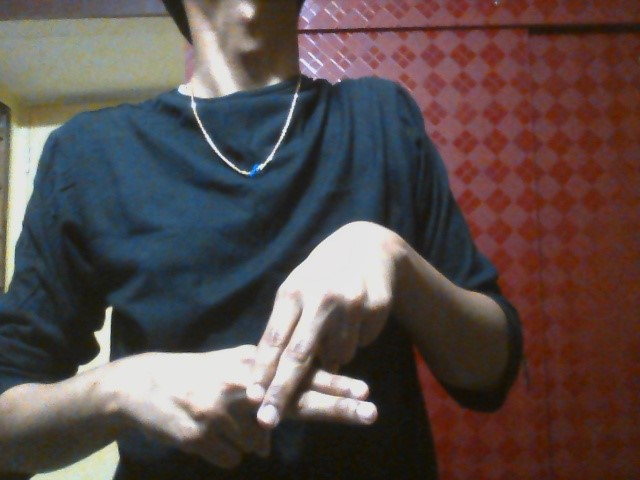F: (145, 234, 390, 467)
